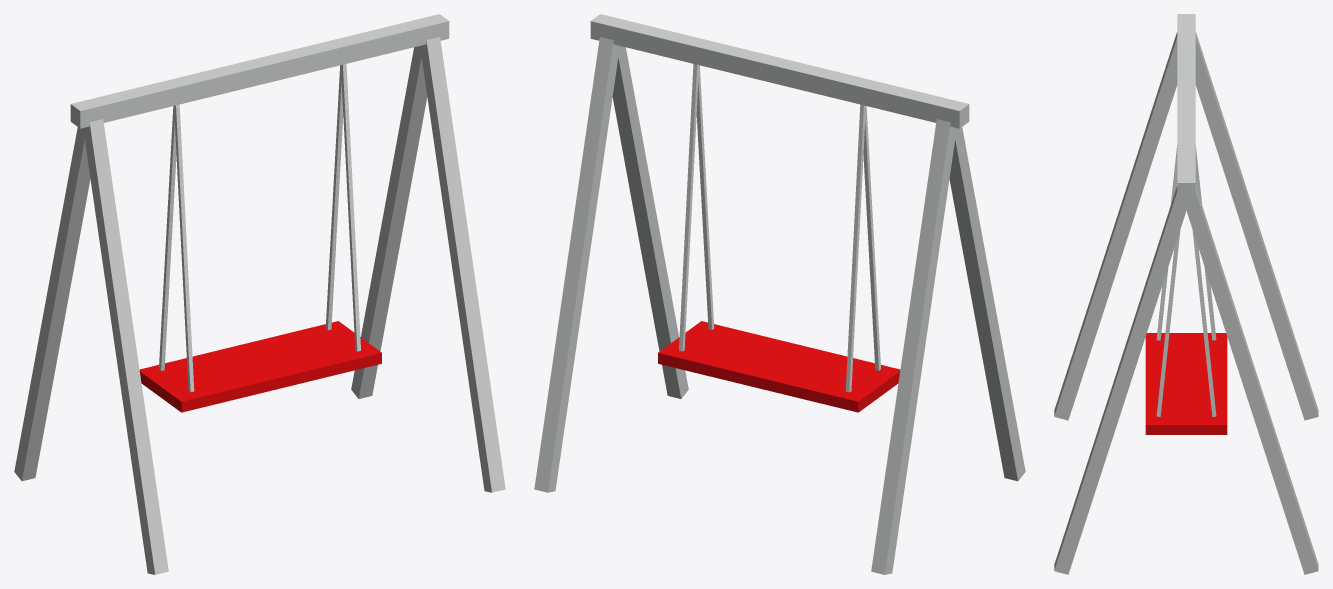
Rendered from swing.glb.
3 renders of one model, left to right at view 1: azimuth 30°, elevation 25°; view 2: azimuth 150°, elevation 25°; view 3: azimuth 270°, elevation 25°, orthographic. The views are drawn at different scales.
Visible parts, largest first — view 1: Red rectangular seat, Top crossbar, Front angled support, Front angled support.001, Rear angled support, Rear angled support.001, Suspension rope, Suspension rope.002, Suspension rope.001, Suspension rope.003; view 2: Red rectangular seat, Top crossbar, Rear angled support.001, Rear angled support, Front angled support, Front angled support.001, Suspension rope.001, Suspension rope.003, Suspension rope, Suspension rope.002; view 3: Red rectangular seat, Front angled support.001, Rear angled support.001, Front angled support, Rear angled support, Top crossbar, Suspension rope.003, Suspension rope.002, Suspension rope, Suspension rope.001.
Part boxes in pixels (x1,y1,x2,y2): Red rectangular seat: [139, 321, 381, 412]; Top crossbar: [70, 14, 449, 128]; Front angled support: [84, 119, 168, 574]; Front angled support.001: [421, 37, 505, 492]; Rear angled support: [14, 127, 90, 481]; Rear angled support.001: [351, 45, 427, 398]; Suspension rope: [174, 104, 194, 392]; Suspension rope.002: [340, 64, 360, 351]; Suspension rope.001: [159, 106, 176, 370]; Suspension rope.003: [325, 65, 343, 330]; Red rectangular seat: [658, 321, 900, 412]; Top crossbar: [590, 14, 969, 128]; Rear angled support.001: [534, 37, 619, 492]; Rear angled support: [871, 119, 956, 574]; Front angled support: [949, 127, 1025, 481]; Front angled support.001: [612, 46, 688, 398]; Suspension rope.001: [845, 104, 865, 392]; Suspension rope.003: [679, 64, 698, 351]; Suspension rope: [863, 105, 880, 370]; Suspension rope.002: [696, 65, 714, 330]; Red rectangular seat: [1145, 333, 1227, 434]; Front angled support.001: [1054, 186, 1189, 574]; Rear angled support.001: [1186, 186, 1318, 574]; Front angled support: [1054, 32, 1177, 420]; Rear angled support: [1195, 32, 1318, 420]; Top crossbar: [1177, 14, 1195, 199]; Suspension rope.003: [1192, 230, 1216, 416]; Suspension rope.002: [1156, 230, 1180, 416]; Suspension rope: [1156, 145, 1177, 340]; Suspension rope.001: [1195, 145, 1216, 340].
Bounding box in the file's own units: 2.3 × 2.51 × 1.52.
